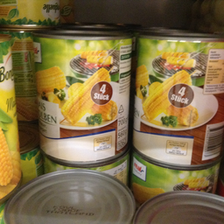corn: (32, 26, 132, 167), (132, 30, 224, 172)
